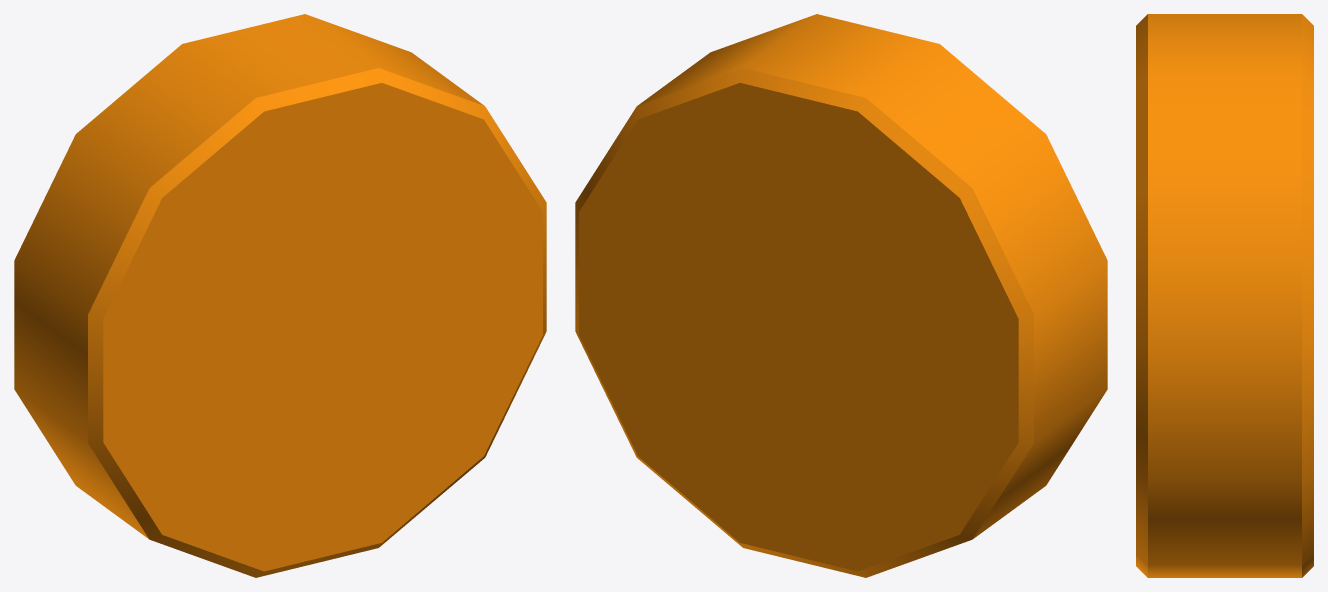
Rendered from Fix1_.fbx.
3 views of the same model, side by side, from view 1: azimuth 30°, elevation 25°; view 2: azimuth 150°, elevation 25°; view 3: azimuth 270°, elevation 25° (orthographic). The views are drawn at different scales.
Parts seen in each view (by area): view 1: Fix1_; view 2: Fix1_; view 3: Fix1_.
Part boxes in pixels (bbox=[...]): Fix1_: bbox=[14, 14, 546, 577]; Fix1_: bbox=[575, 14, 1107, 577]; Fix1_: bbox=[1136, 14, 1313, 577].
Size of the model in its own units: 0.5271 by 0.1695 by 0.5271.
